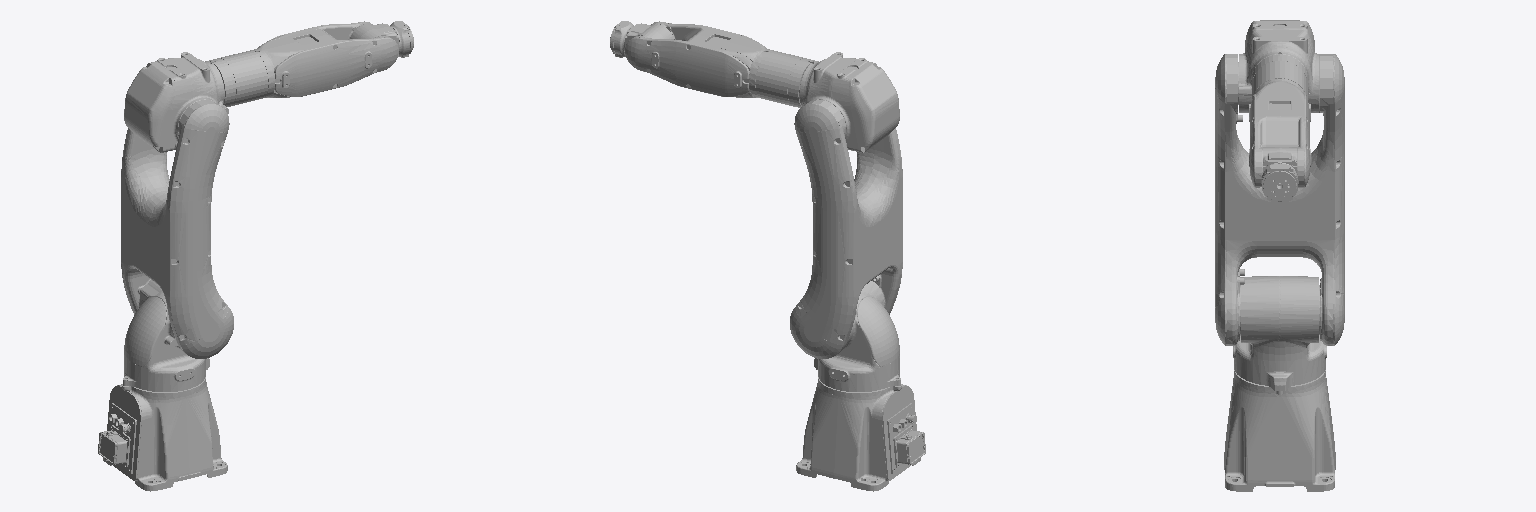
The robot description file, URDF, robot "my_robot_description":
<?xml version="1.0" encoding="utf-8"?>
<!-- This URDF was automatically created by SolidWorks to URDF Exporter! Originally created by Stephen Brawner (brawner@gmail.com) 
     Commit Version: 1.6.0-1-g15f4949  Build Version: 1.6.7594.29634
     For more information, please see http://wiki.ros.org/sw_urdf_exporter -->
<robot
  name="my_robot_description">
  <!-- Mount the arm to the world while keeping its joints movable. -->
  <link name="world" />
  <joint name="world_to_base" type="fixed">
    <parent link="world" />
    <child link="base_link" />
    <!-- The exported robot base faces -X. Mount it facing the workcell's +X. -->
    <origin xyz="0 0 0" rpy="0 0 3.141592654" />
  </joint>
  <link
    name="base_link">
    <inertial>
      <origin
        xyz="0.00557 0.094758 1.2548E-06"
        rpy="0 0 0" />
      <mass
        value="5.2154" />
      <inertia
        ixx="0.026026"
        ixy="-0.00013987"
        ixz="2.6039E-05"
        iyy="0.02172"
        iyz="-4.7704E-05"
        izz="0.025295" />
    </inertial>
    <visual>
      <origin
        xyz="0 0 0"
        rpy="0 0 0" />
      <geometry>
        <mesh
          filename="package://my_robot_description/meshes/base_link.STL" />
      </geometry>
      <material
        name="">
        <color
          rgba="0.75294 0.75294 0.75294 1" />
      </material>
    </visual>
    <collision>
      <origin
        xyz="0 0 0"
        rpy="0 0 0" />
      <geometry>
        <mesh
          filename="package://my_robot_description/meshes/base_link.STL" />
      </geometry>
    </collision>
  </link>
  <link
    name="Link1">
    <inertial>
      <origin
        xyz="0.0001345 0.099849 -0.015672"
        rpy="0 0 0" />
      <mass
        value="2.9447" />
      <inertia
        ixx="0.011947"
        ixy="-1.2253E-06"
        ixz="1.703E-06"
        iyy="0.0088687"
        iyz="0.0021793"
        izz="0.011181" />
    </inertial>
    <visual>
      <origin
        xyz="0 0 0"
        rpy="0 0 0" />
      <geometry>
        <mesh
          filename="package://my_robot_description/meshes/Link1.STL" />
      </geometry>
      <material
        name="">
        <color
          rgba="0.75294 0.75294 0.75294 1" />
      </material>
    </visual>
    <collision>
      <origin
        xyz="0 0 0"
        rpy="0 0 0" />
      <geometry>
        <mesh
          filename="package://my_robot_description/meshes/Link1.STL" />
      </geometry>
    </collision>
  </link>
  <joint
    name="Joint1"
    type="revolute">
    <origin
      xyz="0 0 0.1901"
      rpy="1.5708 0 1.5708" />
    <parent
      link="base_link" />
    <child
      link="Link1" />
    <axis
      xyz="0 1 0" />
    <limit
      lower="-3.141592654"
      upper="3.141592654"
      effort="100"
      velocity="1" />
  </joint>
  <link
    name="Link2">
    <inertial>
      <origin
        xyz="0.027625 0.00020193 -0.19499"
        rpy="0 0 0" />
      <mass
        value="6.2406" />
      <inertia
        ixx="0.1263"
        ixy="4.2905E-05"
        ixz="-0.00019254"
        iyy="0.11052"
        iyz="0.00048286"
        izz="0.027757" />
    </inertial>
    <visual>
      <origin
        xyz="0 0 0"
        rpy="0 0 0" />
      <geometry>
        <mesh
          filename="package://my_robot_description/meshes/Link2.STL" />
      </geometry>
      <material
        name="">
        <color
          rgba="0.75294 0.75294 0.75294 1" />
      </material>
    </visual>
    <collision>
      <origin
        xyz="0 0 0"
        rpy="0 0 0" />
      <geometry>
        <mesh
          filename="package://my_robot_description/meshes/Link2.STL" />
      </geometry>
    </collision>
  </link>
  <joint
    name="Joint2"
    type="revolute">
    <origin
      xyz="0 0.1399 -0.04"
      rpy="1.5708 -1.5708 0" />
    <parent
      link="Link1" />
    <child
      link="Link2" />
    <axis
      xyz="0 1 0" />
    <limit
      lower="-1.25"
      upper="2.24"
      effort="100"
      velocity="1" />
  </joint>
  <link
    name="Link3">
    <inertial>
      <origin
        xyz="-0.015909 -0.00085391 0.020055"
        rpy="0 0 0" />
      <mass
        value="2.8492" />
      <inertia
        ixx="0.0082319"
        ixy="2.8971E-05"
        ixz="-0.00090368"
        iyy="0.0077915"
        iyz="-3.8653E-05"
        izz="0.0069342" />
    </inertial>
    <visual>
      <origin
        xyz="0 0 0"
        rpy="0 0 0" />
      <geometry>
        <mesh
          filename="package://my_robot_description/meshes/Link3.STL" />
      </geometry>
      <material
        name="">
        <color
          rgba="0.75294 0.75294 0.75294 1" />
      </material>
    </visual>
    <collision>
      <origin
        xyz="0 0 0"
        rpy="0 0 0" />
      <geometry>
        <mesh
          filename="package://my_robot_description/meshes/Link3.STL" />
      </geometry>
    </collision>
  </link>
  <joint
    name="Joint3"
    type="revolute">
    <origin
      xyz="0 0 -0.445"
      rpy="3.1416 0 3.1416" />
    <parent
      link="Link2" />
    <child
      link="Link3" />
    <axis
      xyz="0 1 0" />
    <limit
      lower="-3.88"
      upper="1.45"
      effort="100"
      velocity="1" />
  </joint>
  <link
    name="Link4">
    <inertial>
      <origin
        xyz="0.17427 -0.00015217 -0.00015773"
        rpy="0 0 0" />
      <mass
        value="2.7554" />
      <inertia
        ixx="0.0030857"
        ixy="3.9981E-06"
        ixz="-0.00031861"
        iyy="0.010085"
        iyz="-2.4878E-06"
        izz="0.010785" />
    </inertial>
    <visual>
      <origin
        xyz="0 0 0"
        rpy="0 0 0" />
      <geometry>
        <mesh
          filename="package://my_robot_description/meshes/Link4.STL" />
      </geometry>
      <material
        name="">
        <color
          rgba="0.75294 0.75294 0.75294 1" />
      </material>
    </visual>
    <collision>
      <origin
        xyz="0 0 0"
        rpy="0 0 0" />
      <geometry>
        <mesh
          filename="package://my_robot_description/meshes/Link4.STL" />
      </geometry>
    </collision>
  </link>
  <joint
    name="Joint4"
    type="revolute">
    <origin
      xyz="0.0715 0 0.04"
      rpy="1.5708 0 0" />
    <parent
      link="Link3" />
    <child
      link="Link4" />
    <axis
      xyz="1 0 0" />
    <limit
      lower="-3.141592654"
      upper="3.141592654"
      effort="100"
      velocity="1" />
  </joint>
  <link
    name="Link5">
    <inertial>
      <origin
        xyz="0.00025391 0.01321 -0.0017485"
        rpy="0 0 0" />
      <mass
        value="0.24589" />
      <inertia
        ixx="0.00013953"
        ixy="-2.1177E-06"
        ixz="1.9619E-07"
        iyy="0.00015684"
        iyz="-1.2921E-06"
        izz="0.00018562" />
    </inertial>
    <visual>
      <origin
        xyz="0 0 0"
        rpy="0 0 0" />
      <geometry>
        <mesh
          filename="package://my_robot_description/meshes/Link5.STL" />
      </geometry>
      <material
        name="">
        <color
          rgba="0.75294 0.75294 0.75294 1" />
      </material>
    </visual>
    <collision>
      <origin
        xyz="0 0 0"
        rpy="0 0 0" />
      <geometry>
        <mesh
          filename="package://my_robot_description/meshes/Link5.STL" />
      </geometry>
    </collision>
  </link>
  <joint
    name="Joint5"
    type="revolute">
    <origin
      xyz="0.3685 0 0"
      rpy="3.1416 0 1.5708" />
    <parent
      link="Link4" />
    <child
      link="Link5" />
    <axis
      xyz="0 0 1" />
    <limit
      lower="-2.26"
      upper="2.26"
      effort="100"
      velocity="1" />
  </joint>
  <link
    name="Link6">
    <inertial>
      <origin
        xyz="0.0066142 -7.0499E-14 -6.6834E-05"
        rpy="0 0 0" />
      <mass
        value="0.024192" />
      <inertia
        ixx="8.9808E-06"
        ixy="-4.4592E-17"
        ixz="2.0766E-09"
        iyy="4.811E-06"
        iyz="-1.1358E-19"
        izz="4.8354E-06" />
    </inertial>
    <visual>
      <origin
        xyz="0 0 0"
        rpy="0 0 0" />
      <geometry>
        <mesh
          filename="package://my_robot_description/meshes/Link6.STL" />
      </geometry>
      <material
        name="">
        <color
          rgba="0.75294 0.75294 0.75294 1" />
      </material>
    </visual>
    <collision>
      <origin
        xyz="0 0 0"
        rpy="0 0 0" />
      <geometry>
        <mesh
          filename="package://my_robot_description/meshes/Link6.STL" />
      </geometry>
    </collision>
  </link>
  <joint
    name="Joint6"
    type="revolute">
    <origin
      xyz="0 0.0675 0"
      rpy="0 0 1.5708" />
    <parent
      link="Link5" />
    <child
      link="Link6" />
    <axis
      xyz="1 0 0" />
    <limit
      lower="-3.141592654"
      upper="3.141592654"
      effort="100"
      velocity="1" />
  </joint>
  <gazebo>
    <!-- Joint-space position PIDs. Integral action rejects gravity torque;
         i_min/i_max prevent windup when an effort limit is reached. -->
    <plugin filename="gz-sim-joint-position-controller-system"
            name="gz::sim::systems::JointPositionController">
      <joint_name>Joint1</joint_name>
      <p_gain>200</p_gain>
      <i_gain>10</i_gain>
      <d_gain>15</d_gain>
      <i_max>20</i_max>
      <i_min>-20</i_min>
      <cmd_max>100</cmd_max>
      <cmd_min>-100</cmd_min>
    </plugin>
    <plugin filename="gz-sim-joint-position-controller-system"
            name="gz::sim::systems::JointPositionController">
      <joint_name>Joint2</joint_name>
      <p_gain>1000</p_gain>
      <i_gain>300</i_gain>
      <d_gain>50</d_gain>
      <i_max>100</i_max>
      <i_min>-100</i_min>
      <cmd_max>100</cmd_max>
      <cmd_min>-100</cmd_min>
    </plugin>
    <plugin filename="gz-sim-joint-position-controller-system"
            name="gz::sim::systems::JointPositionController">
      <joint_name>Joint3</joint_name>
      <p_gain>300</p_gain>
      <i_gain>100</i_gain>
      <d_gain>15</d_gain>
      <i_max>100</i_max>
      <i_min>-100</i_min>
      <cmd_max>100</cmd_max>
      <cmd_min>-100</cmd_min>
    </plugin>
    <plugin filename="gz-sim-joint-position-controller-system"
            name="gz::sim::systems::JointPositionController">
      <joint_name>Joint4</joint_name>
      <p_gain>80</p_gain>
      <i_gain>10</i_gain>
      <d_gain>1</d_gain>
      <i_max>20</i_max>
      <i_min>-20</i_min>
      <cmd_max>40</cmd_max>
      <cmd_min>-40</cmd_min>
    </plugin>
    <plugin filename="gz-sim-joint-position-controller-system"
            name="gz::sim::systems::JointPositionController">
      <joint_name>Joint5</joint_name>
      <p_gain>30</p_gain>
      <i_gain>2</i_gain>
      <d_gain>0.15</d_gain>
      <i_max>10</i_max>
      <i_min>-10</i_min>
      <cmd_max>20</cmd_max>
      <cmd_min>-20</cmd_min>
    </plugin>
    <plugin filename="gz-sim-joint-position-controller-system"
            name="gz::sim::systems::JointPositionController">
      <joint_name>Joint6</joint_name>
      <p_gain>10</p_gain>
      <i_gain>0.1</i_gain>
      <d_gain>0.02</d_gain>
      <i_max>2</i_max>
      <i_min>-2</i_min>
      <cmd_max>1</cmd_max>
      <cmd_min>-1</cmd_min>
    </plugin>
    <plugin filename="gz-sim-joint-state-publisher-system"
            name="gz::sim::systems::JointStatePublisher">
      <joint_name>Joint1</joint_name>
      <joint_name>Joint2</joint_name>
      <joint_name>Joint3</joint_name>
      <joint_name>Joint4</joint_name>
      <joint_name>Joint5</joint_name>
      <joint_name>Joint6</joint_name>
    </plugin>
  </gazebo>
</robot>

--- Facts derived from the render (not from the file) ---
The picture shows the robot from 3 angles, left to right: view 1: azimuth 30°, elevation 25°; view 2: azimuth 150°, elevation 25°; view 3: azimuth 270°, elevation 25°; orthographic projection.
Model my_robot_description with 8 links and 7 joints (6 revolute, 1 fixed), rooted at world, posed all joints at 0.
Visible links, largest first — view 1: Link2, base_link, Link4, Link3, Link1, Link5; view 2: Link2, base_link, Link4, Link3, Link1, Link5; view 3: Link2, base_link, Link1, Link4, Link3, Link5, Link6.
Boxes of the visible links, left/top/right/bottom form: Link2: left=121, top=100, right=233, bottom=358; base_link: left=98, top=377, right=227, bottom=491; Link4: left=209, top=21, right=398, bottom=106; Link3: left=124, top=52, right=228, bottom=152; Link1: left=123, top=280, right=209, bottom=391; Link5: left=350, top=21, right=412, bottom=57; Link2: left=790, top=99, right=902, bottom=358; base_link: left=796, top=377, right=925, bottom=491; Link4: left=625, top=21, right=814, bottom=107; Link3: left=799, top=52, right=899, bottom=152; Link1: left=814, top=281, right=900, bottom=391; Link5: left=611, top=21, right=673, bottom=57; Link2: left=1215, top=54, right=1344, bottom=345; base_link: left=1224, top=370, right=1335, bottom=491; Link1: left=1233, top=276, right=1326, bottom=394; Link4: left=1249, top=55, right=1310, bottom=187; Link3: left=1238, top=20, right=1319, bottom=112; Link5: left=1261, top=147, right=1298, bottom=201; Link6: left=1263, top=171, right=1296, bottom=201.
Bounding box of the posed robot: 0.6973 × 0.23 × 0.877 m (x, y, z).
Meshes: 7 distinct files referenced, 7 mesh visuals loaded (7 binary STL).
